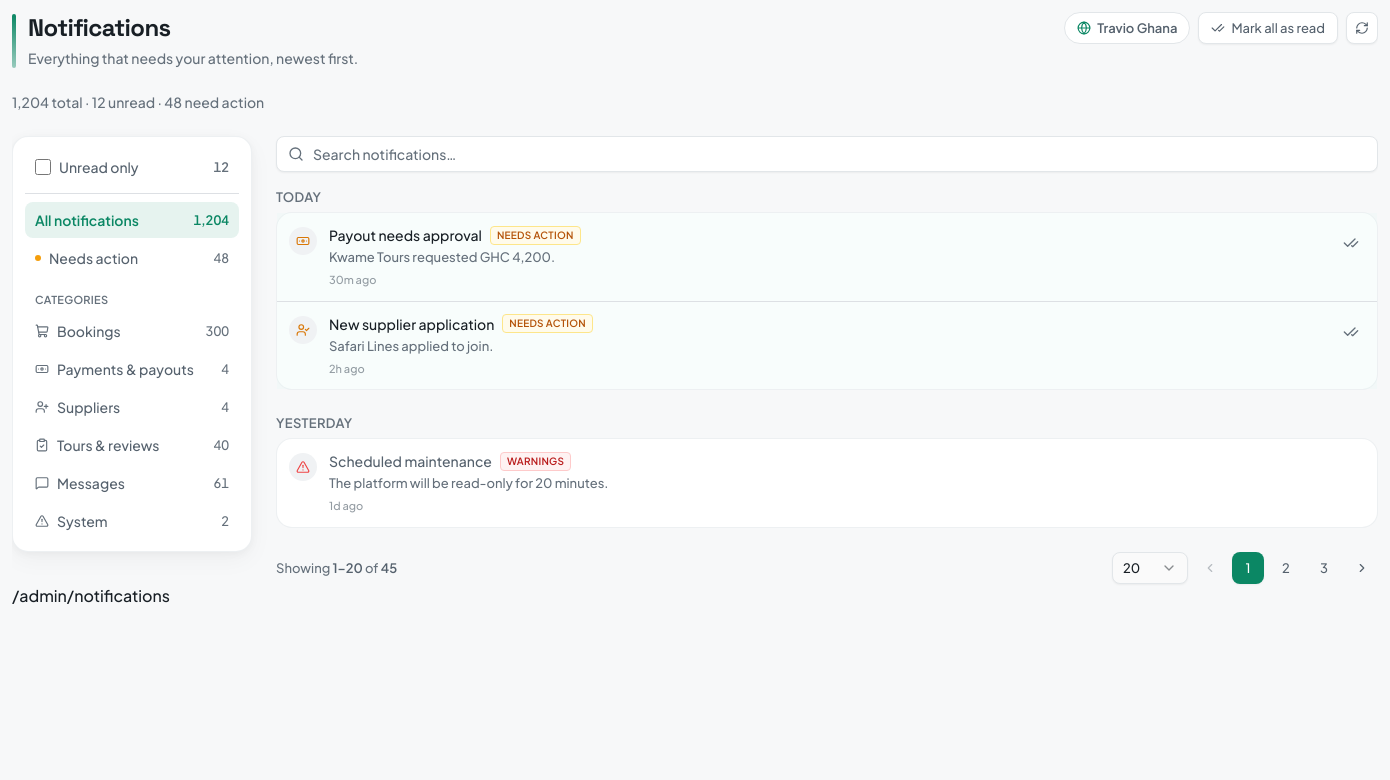
Scenario: NotificationsPage › restricts the feed to unread when the toggle is on
Expected: the text "Payout needs approval" is shown, [329,225,482,245]
What coordinates should you click on to do the following:
click the checkbox labelled "Unread only 12"
I would click on:
 (43, 167)
Its box is [35,159,51,175].
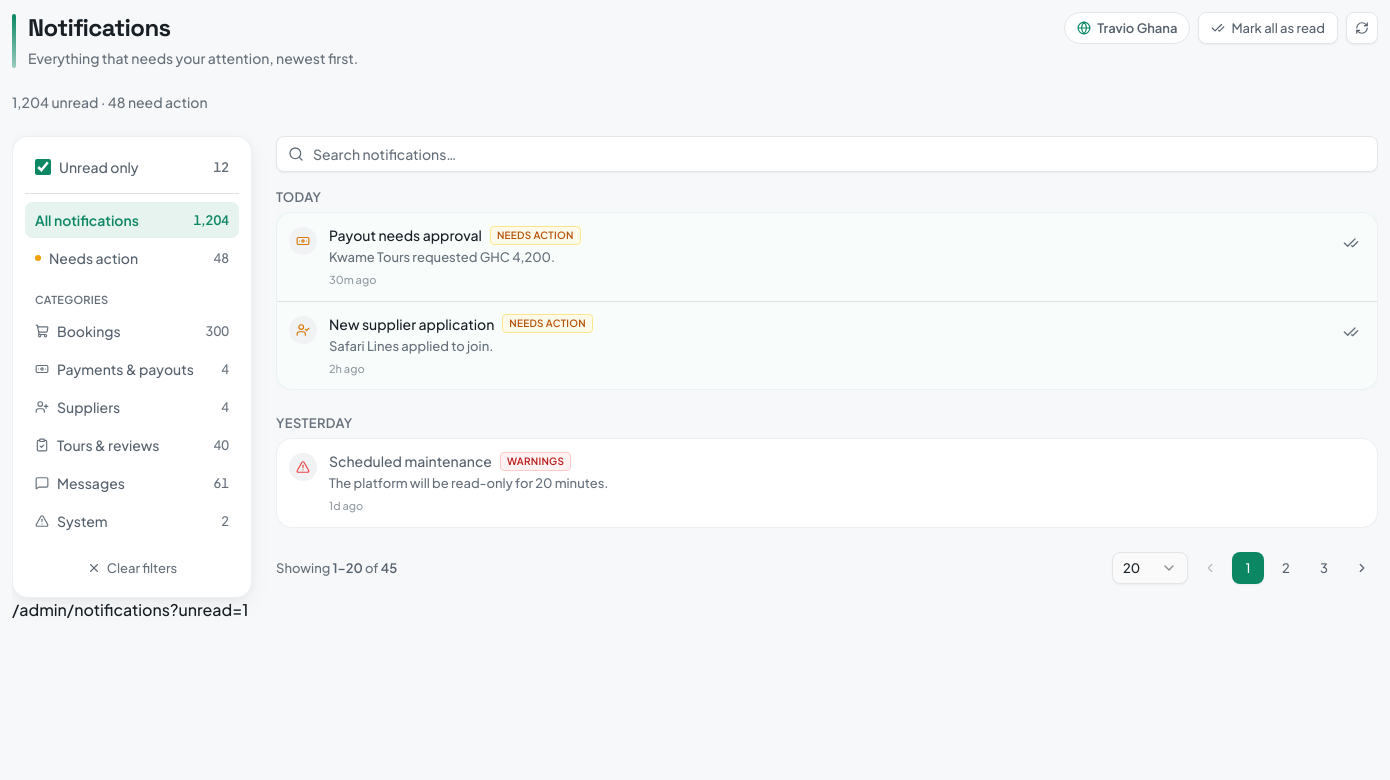
Result: the text with test id "location" shows "unread=1" at [12,598,248,620]
